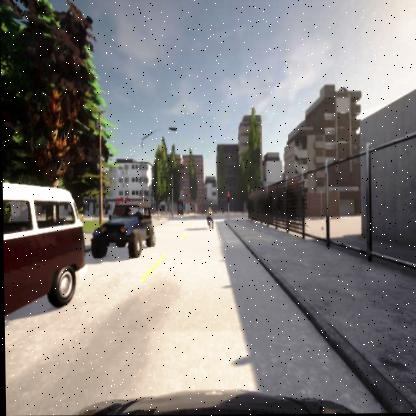bike: (205, 208, 213, 229)
vehicle: (89, 195, 154, 260)
